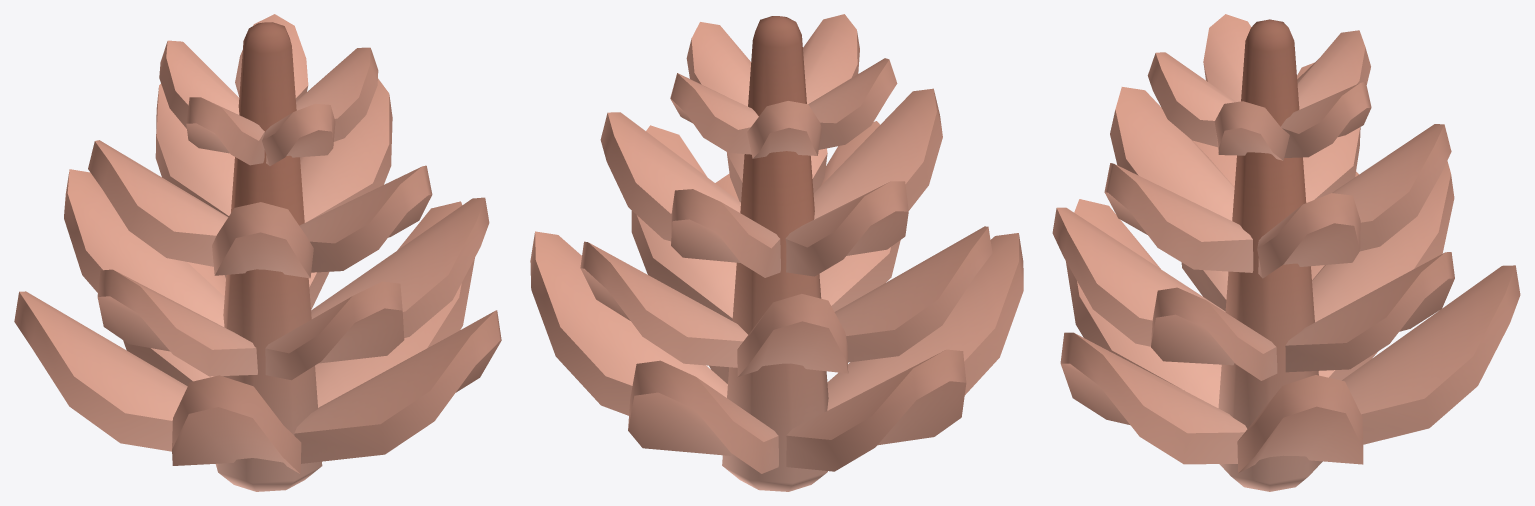
Rendered from fir_cone_002.glb.
3 views of the same model, side by side, from view 1: azimuth 30°, elevation 25°; view 2: azimuth 150°, elevation 25°; view 3: azimuth 270°, elevation 25° (orthographic).
Visible parts, largest first — view 1: fir_cone_002; view 2: fir_cone_002; view 3: fir_cone_002.
Part boxes in pixels (left/top/right/bottom): fir_cone_002: left=14, top=14, right=501, bottom=491; fir_cone_002: left=530, top=14, right=1023, bottom=491; fir_cone_002: left=1052, top=14, right=1520, bottom=491.
Size of the model in its own units: 1.27 by 1.27 by 1.19.
1 material, 1 textured.
